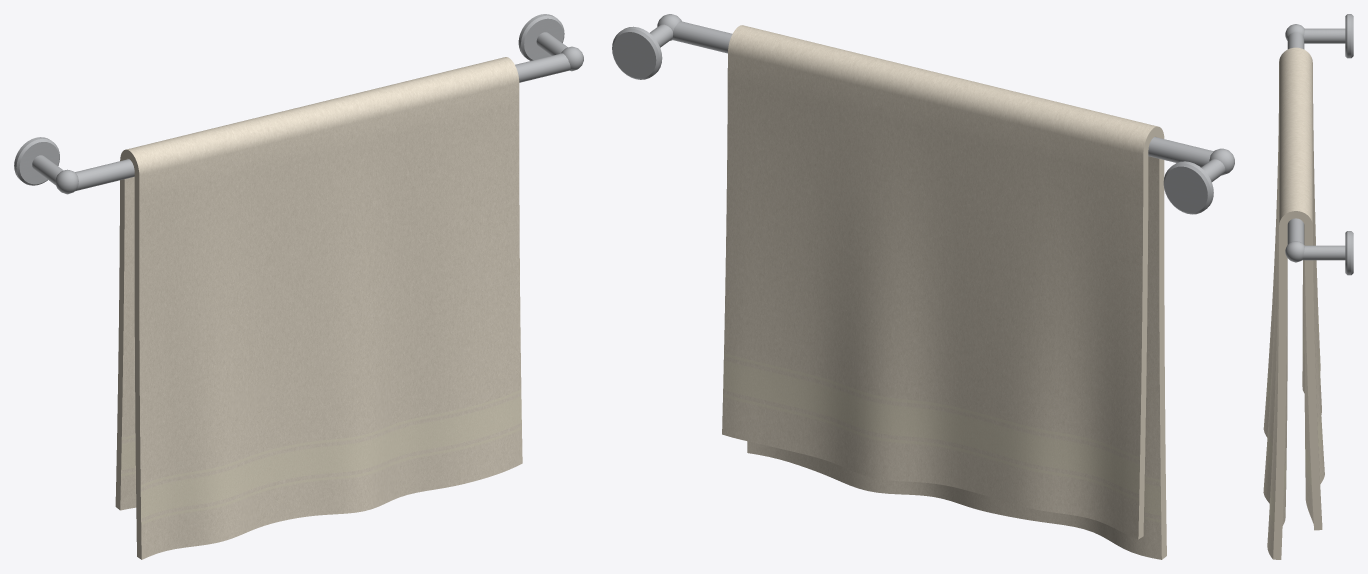
Rendered from towel-rail-with-ivory-towel.glb.
The picture shows the model from 3 angles, left to right: view 1: azimuth 30°, elevation 25°; view 2: azimuth 150°, elevation 25°; view 3: azimuth 270°, elevation 25°; orthographic projection. The views are drawn at different scales.
Visible parts, largest first — view 1: Bath towel, Towel rail; view 2: Bath towel, Towel rail; view 3: Bath towel, Towel rail.
Boxes of the visible parts, x1,y1,x2,y2 form: Bath towel: (115,57,522,559); Towel rail: (14,14,583,194); Bath towel: (722,25,1166,559); Towel rail: (612,14,1234,214); Bath towel: (1263,47,1324,559); Towel rail: (1285,14,1353,275).
Bounding box in the file's own units: 0.678 × 0.4811 × 0.1095.
Materials: 2 (2 with a texture image).
